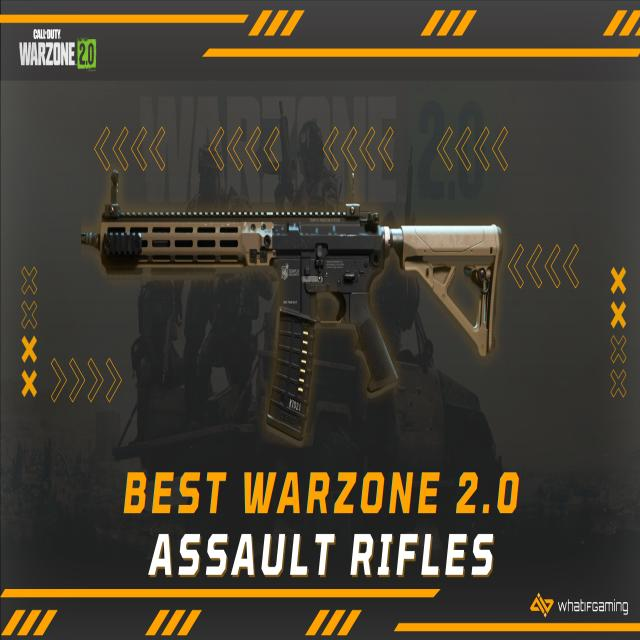Rifle: (81, 200, 501, 444)
